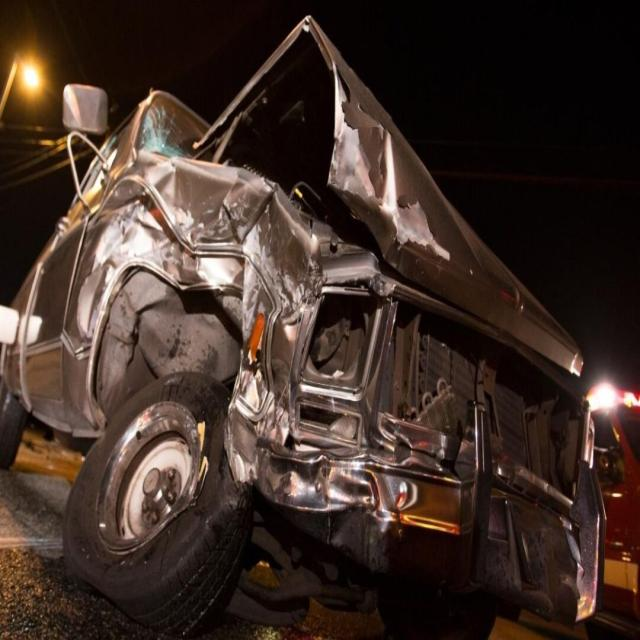car-moderate-accident: (23, 59, 612, 640)
